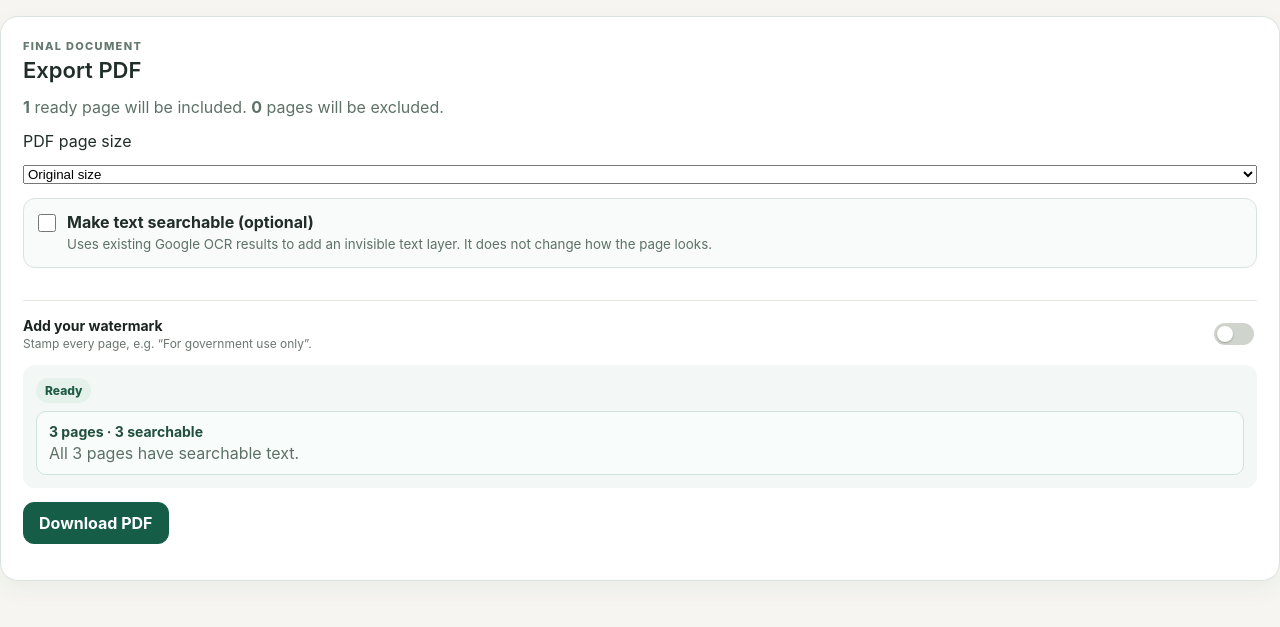
Test: ExportStatusComponent › offers a new PDF when the selected page size differs from a ready export
The width and height of the screenshot is (1280, 627).
Select "A4 paper" in the dropdown labelled "PDF page size" at (640, 174), box [23,165,1257,184]
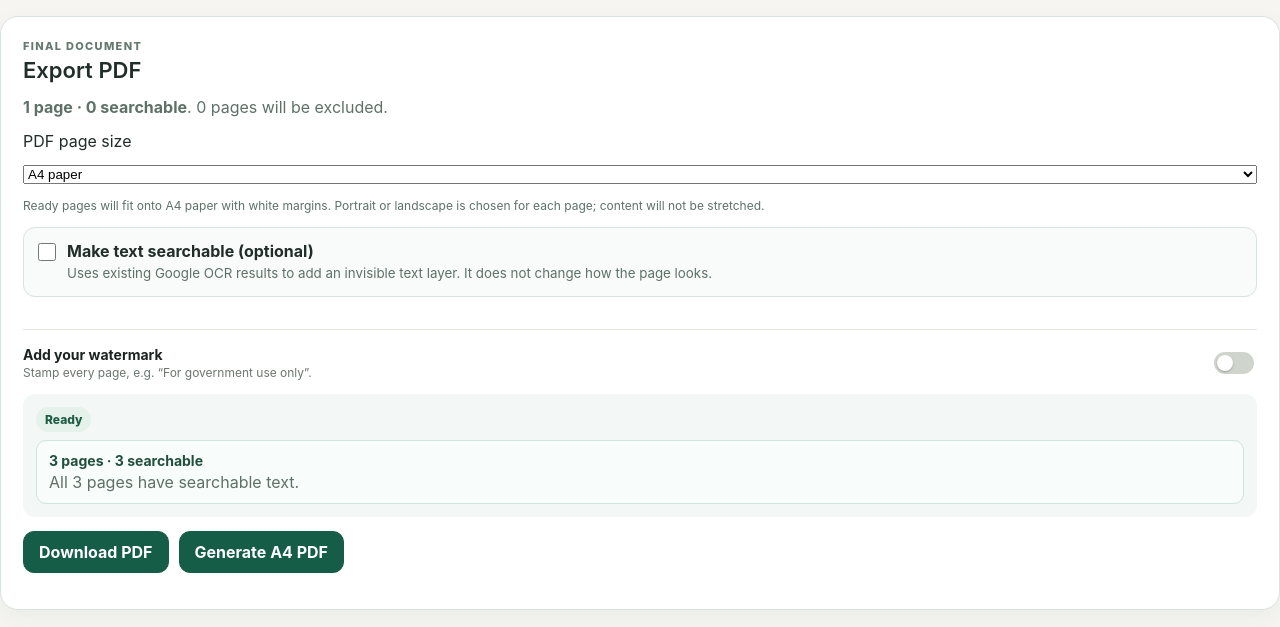
Expected: the text "Generate A4 PDF" is shown, [178,531,344,573]
